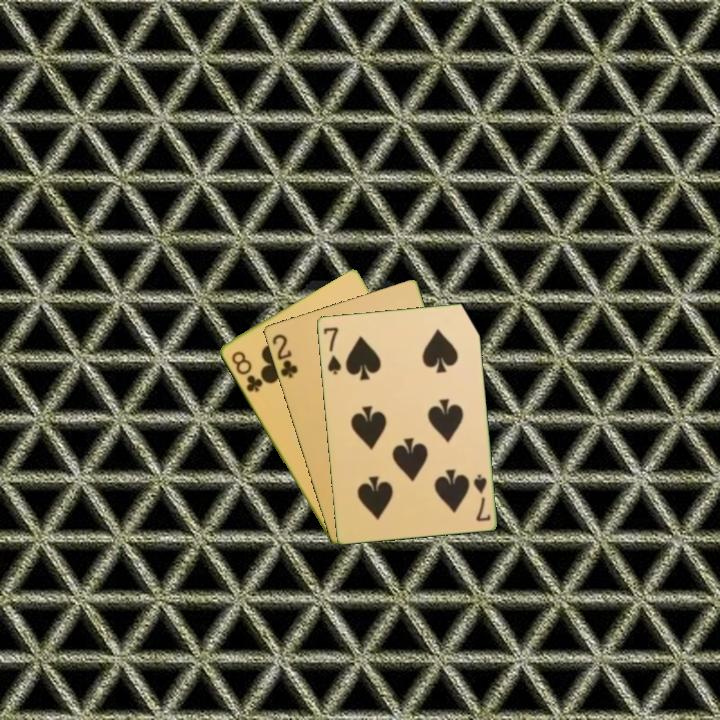2c: (268, 330, 301, 381)
7s: (320, 323, 344, 377), (470, 471, 493, 524)
8c: (227, 347, 265, 395)
